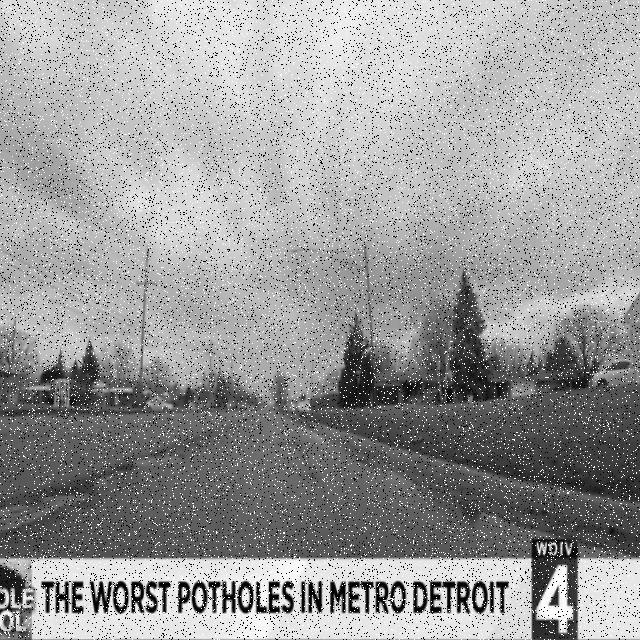pothole: (0, 488, 91, 538)
